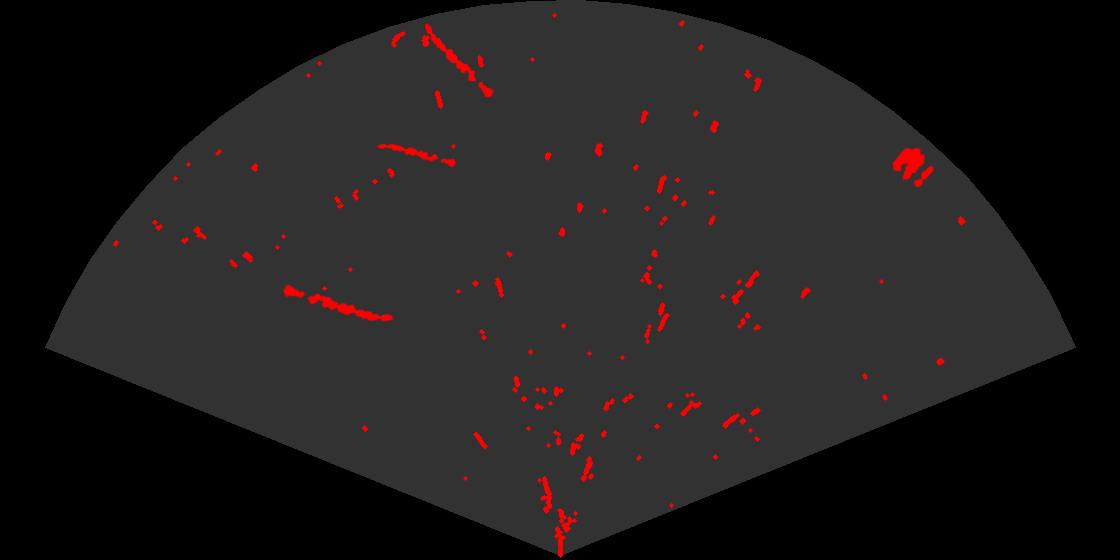ball: (891, 146, 936, 189)
chain: (423, 22, 495, 99), (281, 283, 395, 323), (376, 142, 461, 169)
